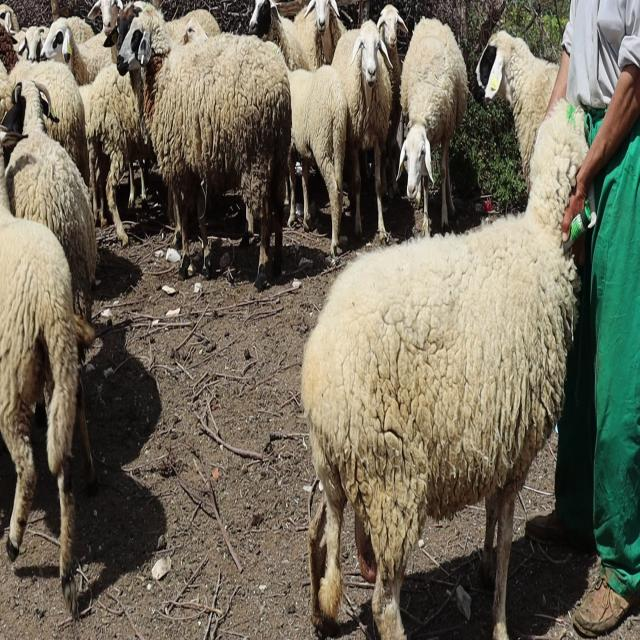Score_3: (302, 100, 588, 639)
